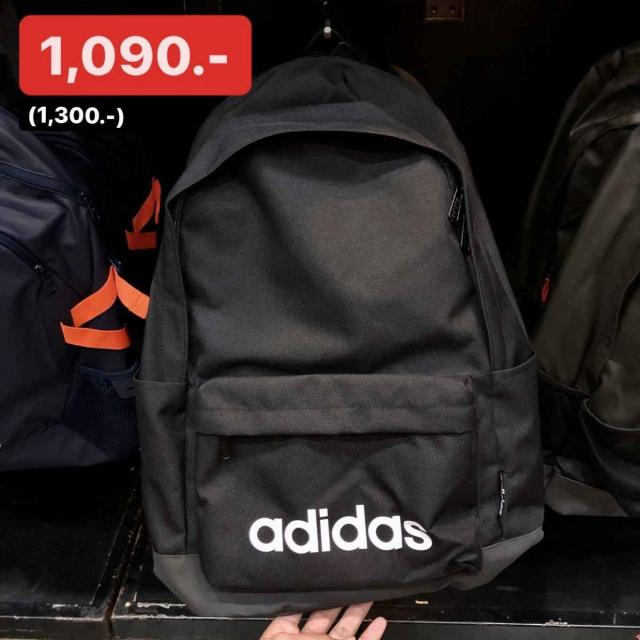Handbag: (132, 46, 549, 614)
